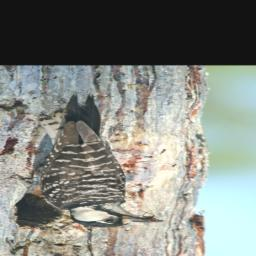Woodpecker: (5, 91, 166, 228)
